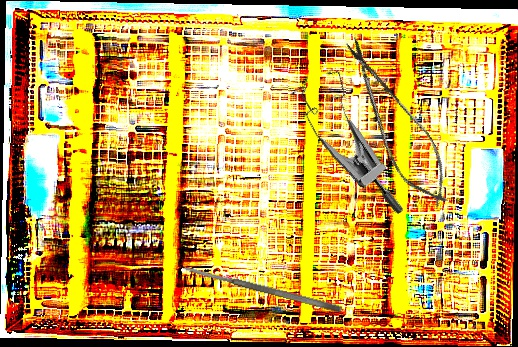Micro Scissor: (328, 29, 464, 217)
Spatula Surgical: (182, 263, 343, 314)
Speculum: (270, 55, 448, 218)
